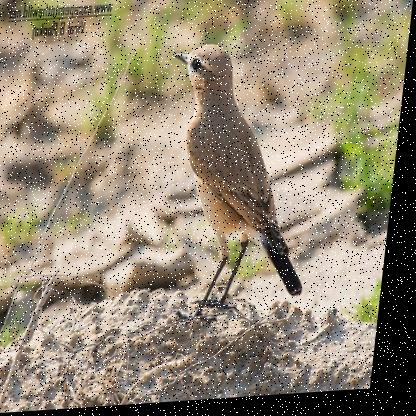Burung: (148, 40, 334, 333)
